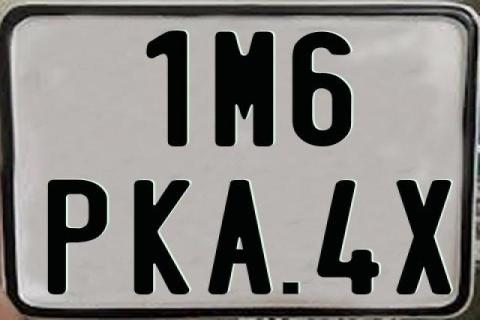0: (289, 31, 353, 147), (314, 180, 379, 294), (143, 31, 190, 151)
A: (206, 178, 270, 294)
K: (131, 178, 189, 292)
M: (215, 30, 276, 148)
P: (46, 178, 106, 298)
X: (395, 179, 453, 295)
